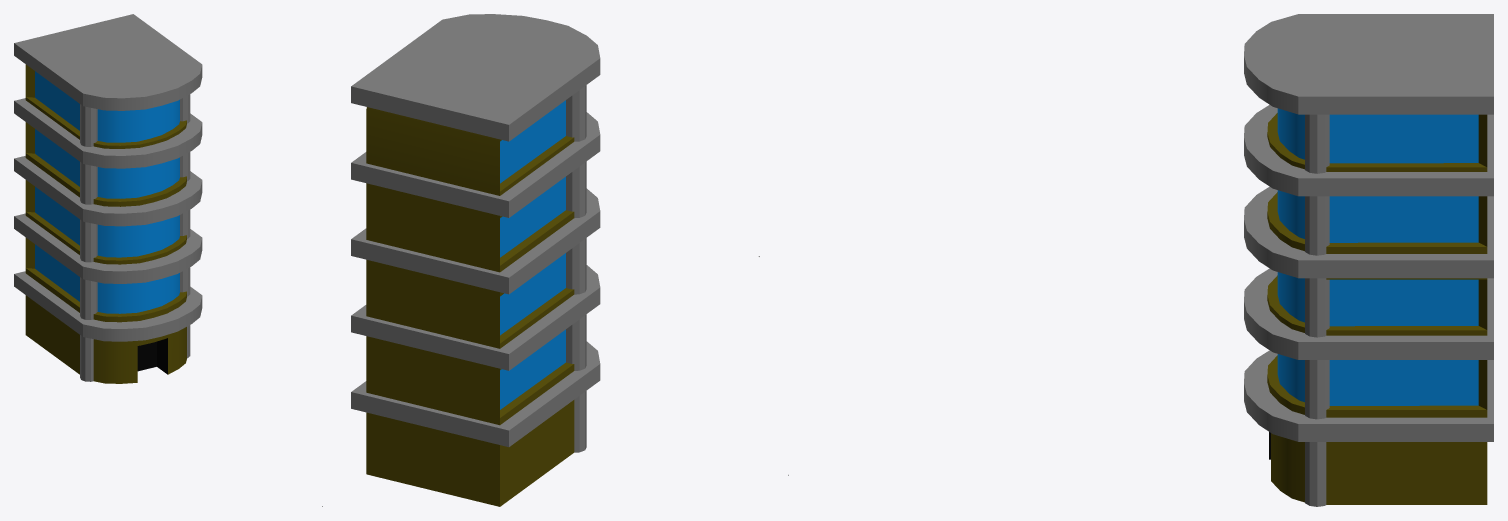
The model's file is tesutokannsei.fbx.
The picture shows the model from 3 angles, left to right: view 1: azimuth 30°, elevation 25°; view 2: azimuth 150°, elevation 25°; view 3: azimuth 270°, elevation 25°; orthographic projection. The views are drawn at different scales.
Visible parts, largest first — view 1: polySurface12, polySurface17, polySurface10, polySurface18, polySurface16, polySurface11, polySurface15, polySurface13; view 2: polySurface12, polySurface17, polySurface16, polySurface11, polySurface18, polySurface10, polySurface15; view 3: polySurface12, polySurface17, polySurface18, polySurface10, polySurface11, polySurface16, polySurface13.
Boxes of the visible parts, bbox=[...] form: polySurface12: bbox=[25, 64, 186, 383]; polySurface17: bbox=[14, 14, 202, 110]; polySurface10: bbox=[14, 156, 202, 226]; polySurface18: bbox=[14, 98, 202, 168]; polySurface16: bbox=[14, 271, 202, 341]; polySurface11: bbox=[14, 213, 202, 283]; polySurface15: bbox=[80, 104, 97, 381]; polySurface13: bbox=[180, 94, 190, 358]; polySurface12: bbox=[366, 100, 574, 506]; polySurface17: bbox=[351, 14, 600, 141]; polySurface16: bbox=[351, 341, 600, 447]; polySurface11: bbox=[351, 265, 600, 370]; polySurface18: bbox=[351, 112, 600, 217]; polySurface10: bbox=[351, 188, 600, 294]; polySurface15: bbox=[566, 85, 586, 452]; polySurface12: bbox=[1267, 108, 1487, 504]; polySurface17: bbox=[1244, 14, 1493, 114]; polySurface18: bbox=[1244, 104, 1493, 196]; polySurface10: bbox=[1244, 186, 1493, 278]; polySurface11: bbox=[1244, 268, 1493, 359]; polySurface16: bbox=[1244, 350, 1493, 441]; polySurface13: bbox=[1305, 114, 1329, 506].
Bounding box in the file's own units: 1063 × 2523 × 3839.
